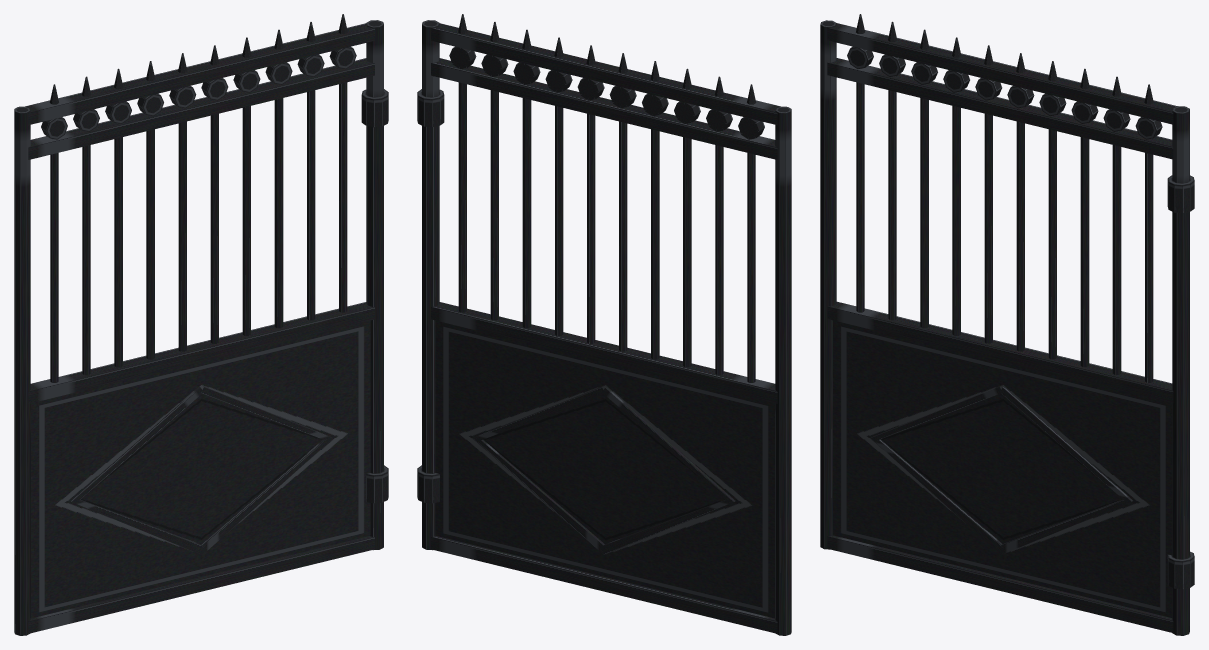
File: reja_puerta_der.obj
3 renders of one model, left to right at view 1: azimuth 30°, elevation 25°; view 2: azimuth 150°, elevation 25°; view 3: azimuth 330°, elevation 25°, orthographic.
Parts seen in each view (by area): view 1: reja_puerta_der; view 2: reja_puerta_der; view 3: reja_puerta_der.
Boxes of the visible parts, <box> form: reja_puerta_der: <box>14,14,388,635</box>; reja_puerta_der: <box>417,14,791,635</box>; reja_puerta_der: <box>820,14,1194,635</box>.
Size of the model in its own units: 1.12 by 1.55 by 0.072.
1 material, 1 textured.
